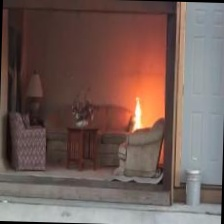fire: (130, 88, 147, 128)
